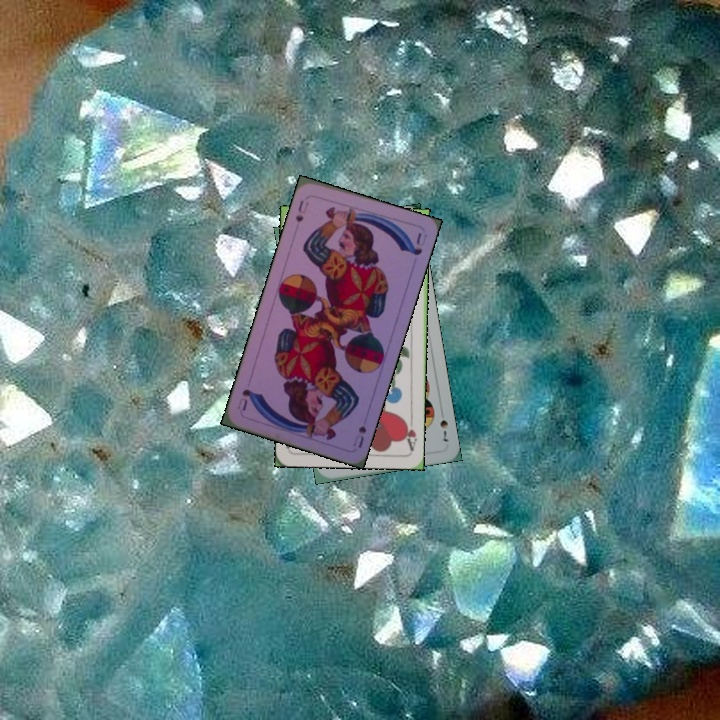HA: (400, 412, 419, 453)
S7: (436, 406, 452, 444)
SU: (349, 422, 369, 451), (291, 196, 311, 225)
